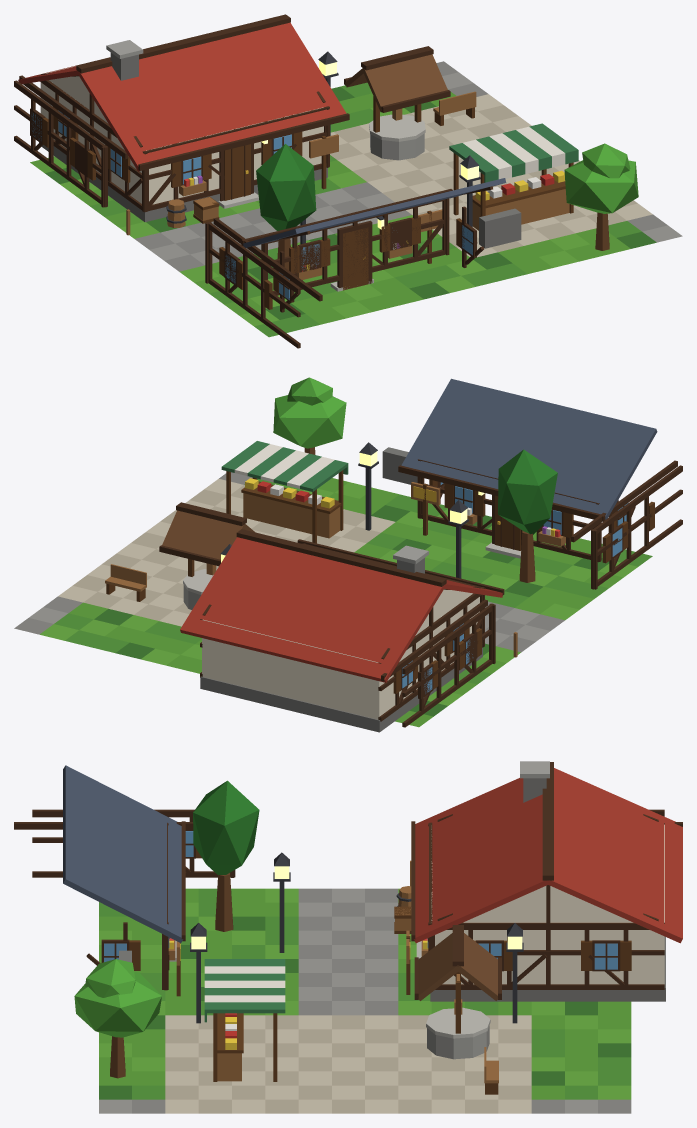
The model's file is chunk_1_2.glb.
The picture shows the model from 3 angles, top to bottom: view 1: azimuth 30°, elevation 25°; view 2: azimuth 150°, elevation 25°; view 3: azimuth 270°, elevation 25°; orthographic projection. The views are drawn at different scales.
Parts seen in each view (by area): view 1: chunk_1_2; view 2: chunk_1_2; view 3: chunk_1_2.
Part boxes in pixels (<box>): chunk_1_2: <box>14,14,682,348</box>; chunk_1_2: <box>14,377,682,732</box>; chunk_1_2: <box>14,761,682,1113</box>.
Size of the model in its own units: 16.1 by 4.94 by 20.1.
